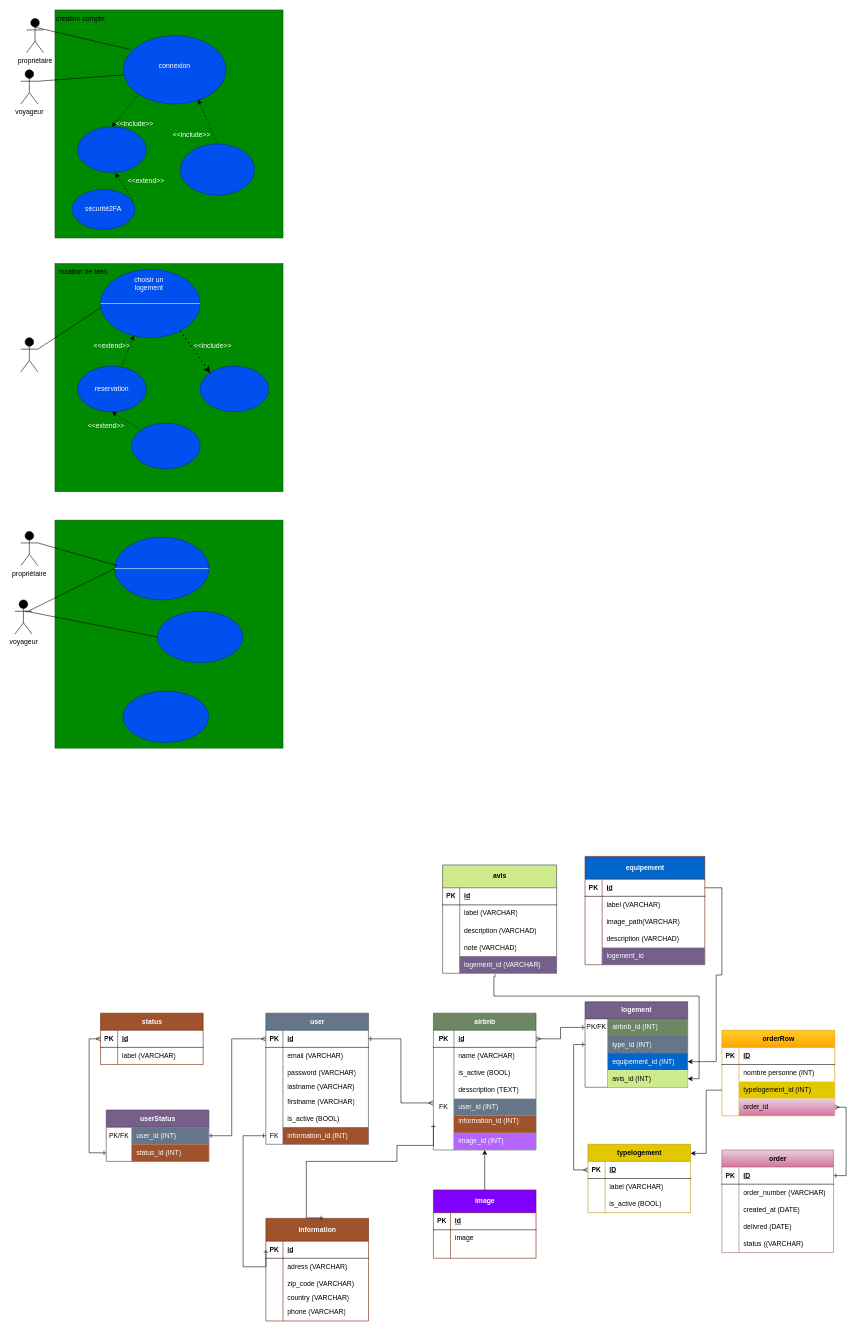
This 862x1331 diagram has some shape labels left out. Here are the shapes that lost their labels. From the top down, the centre of each, then its label:
At pixel 111 149: "inscription email/,google? facbook".
At pixel 217 169: "réservation".
At pixel 29 354: "client".
At pixel 233 389: "payement".
At pixel 165 446: "choix des dates".
At pixel 161 568: "réservation communication".
At pixel 200 637: "payement accepté".
